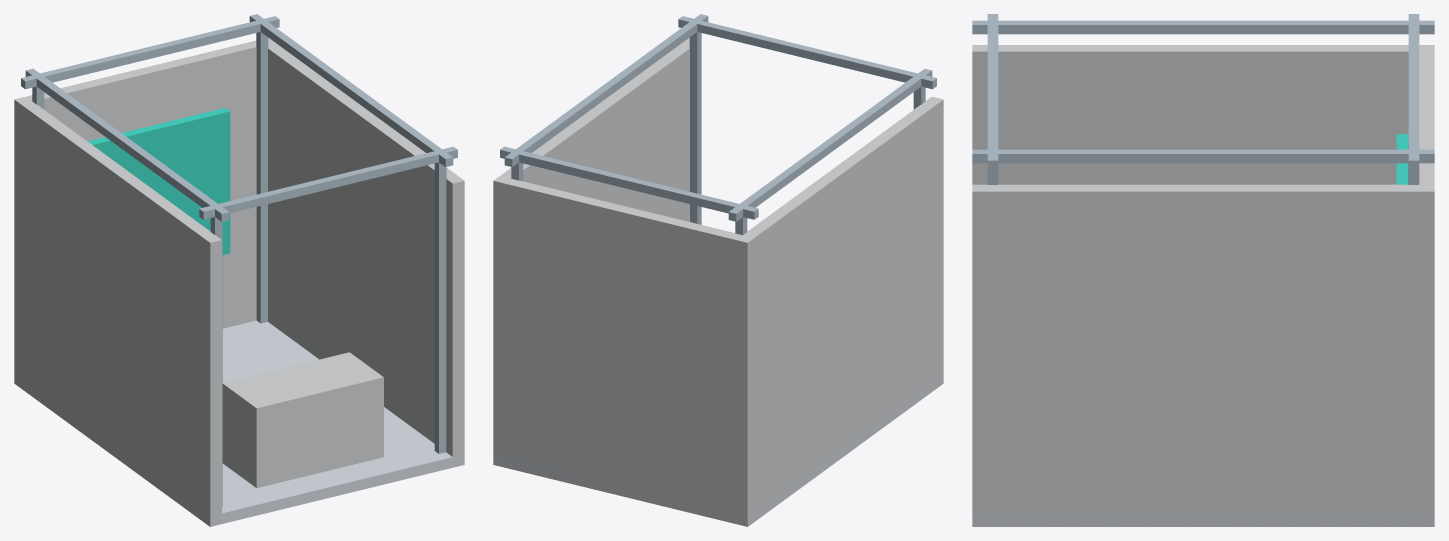
3 renders of one model, left to right at view 1: azimuth 30°, elevation 25°; view 2: azimuth 150°, elevation 25°; view 3: azimuth 270°, elevation 25°, orthographic. The views are drawn at different scales.
Parts seen in each view (by area): view 1: Exhibition Booth Concept; view 2: Exhibition Booth Concept; view 3: Exhibition Booth Concept.
Boxes of the visible parts, x1,y1,x2,y2 form: Exhibition Booth Concept: (14, 14, 464, 526); Exhibition Booth Concept: (493, 14, 943, 526); Exhibition Booth Concept: (972, 14, 1434, 526).
Size of the model in its own units: 3 by 3.49 by 4.
